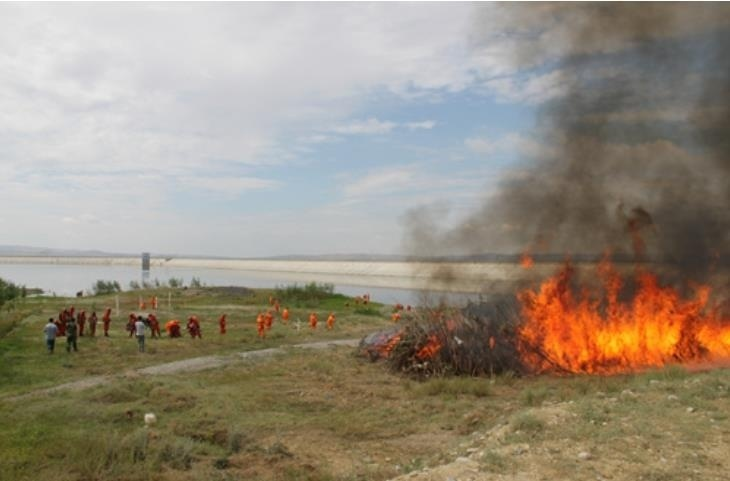fire: (513, 247, 730, 372), (377, 324, 454, 362), (413, 330, 445, 360)
